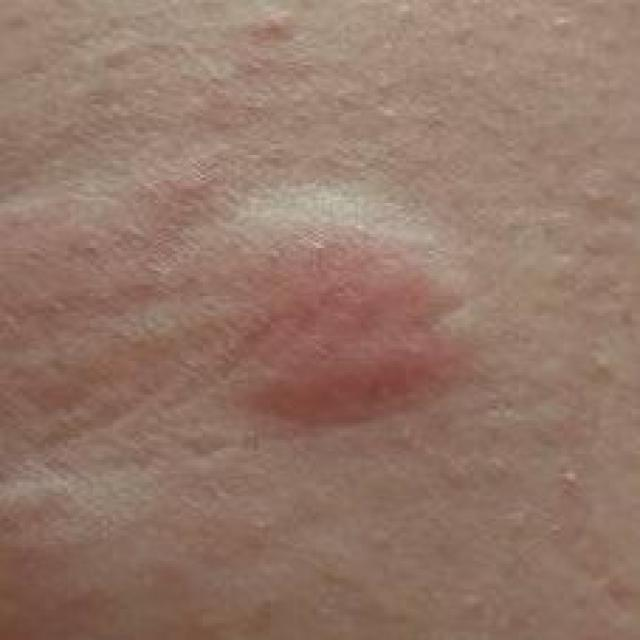sinek: (152, 199, 507, 439)
